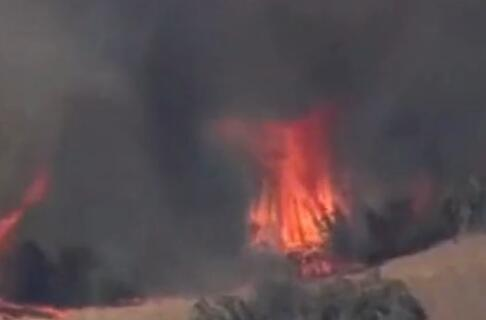fire: (203, 107, 350, 269)
yanwu: (2, 1, 485, 255)
